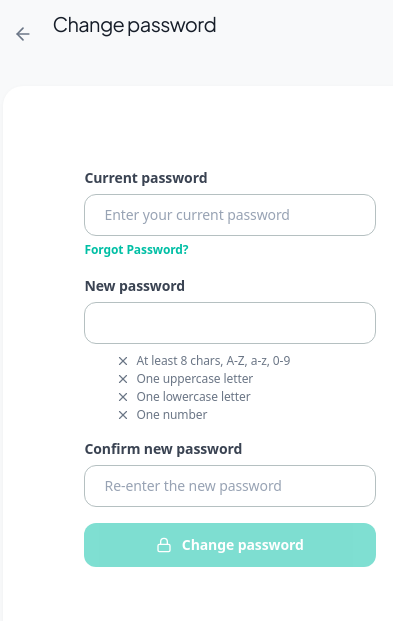
Test: ChangePassword › says so when the confirmation does not match, and sends nothing
Type "OldPass1" into the password field with test id "password-current" at (230,215), box [84,194,376,236]
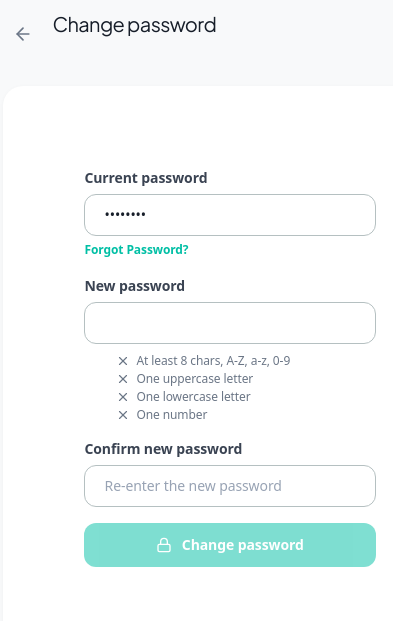
Type "NewPass1" into the password field with test id "password-new" at (230,323), box [84,302,376,344]
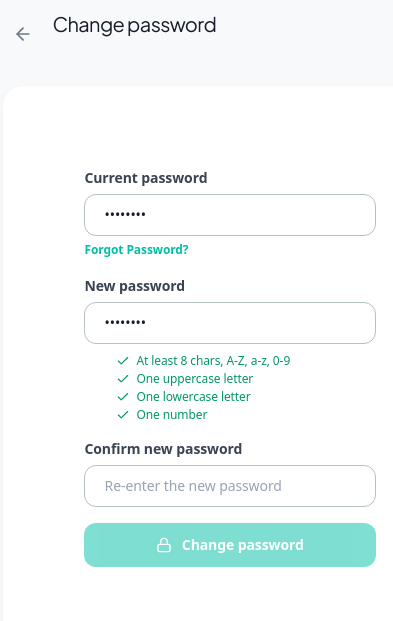
Type "NewPass2" into the password field with test id "password-confirm" at (230,486), box [84,465,376,507]
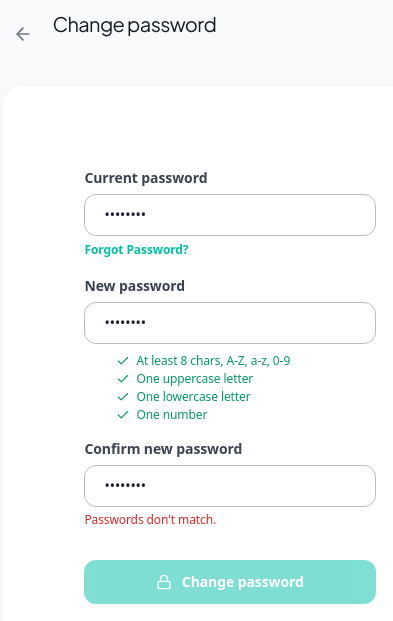
Expected: the button with test id "password-save" is disabled, [84,560,376,604]
Expected: the text "Passwords don't match." is shown, [84,511,216,528]
